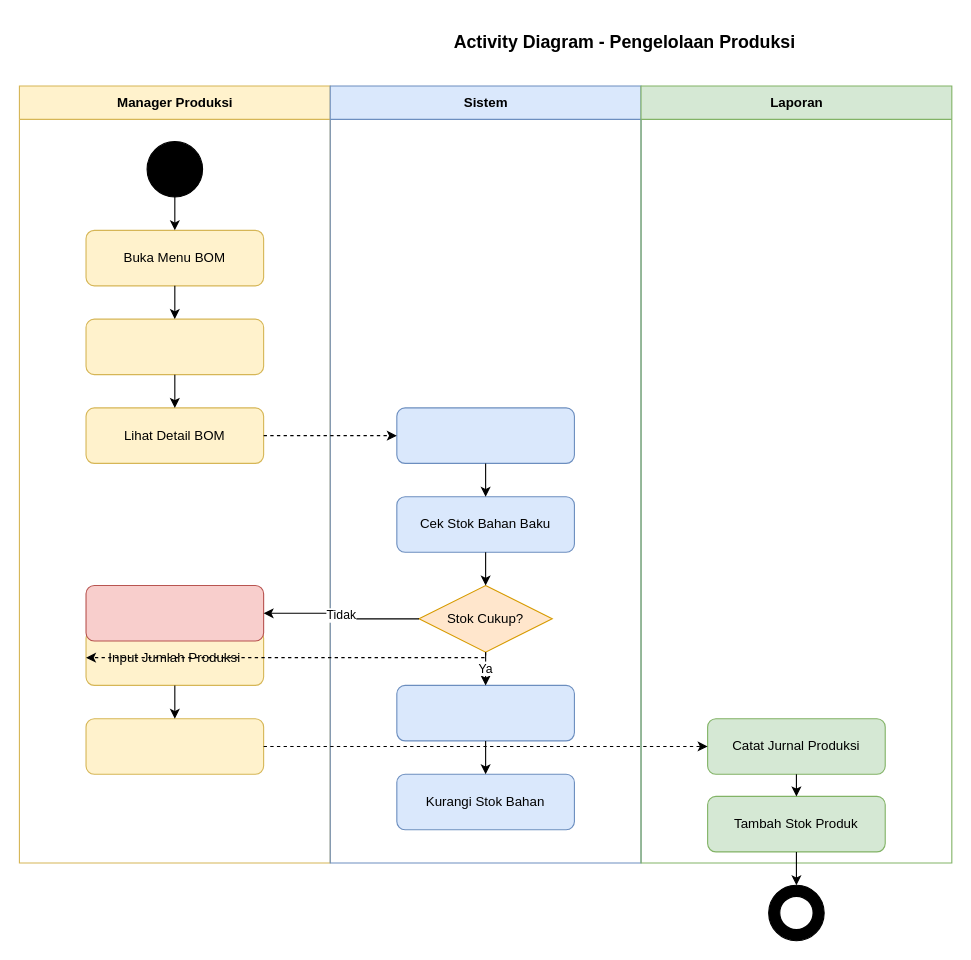
Image size: 971x960. Some labels were removed from this diagram. Here are the shapes that lost their labels. From the top down, the centre of each, then its label:
At point 174,346: "Pilih Produk".
At point 485,435: "Tampilkan BOM".
At point 174,612: "Beli Bahan Baku".
At point 485,712: "Hitung Biaya Produksi".
At point 174,746: "Submit Produksi".
